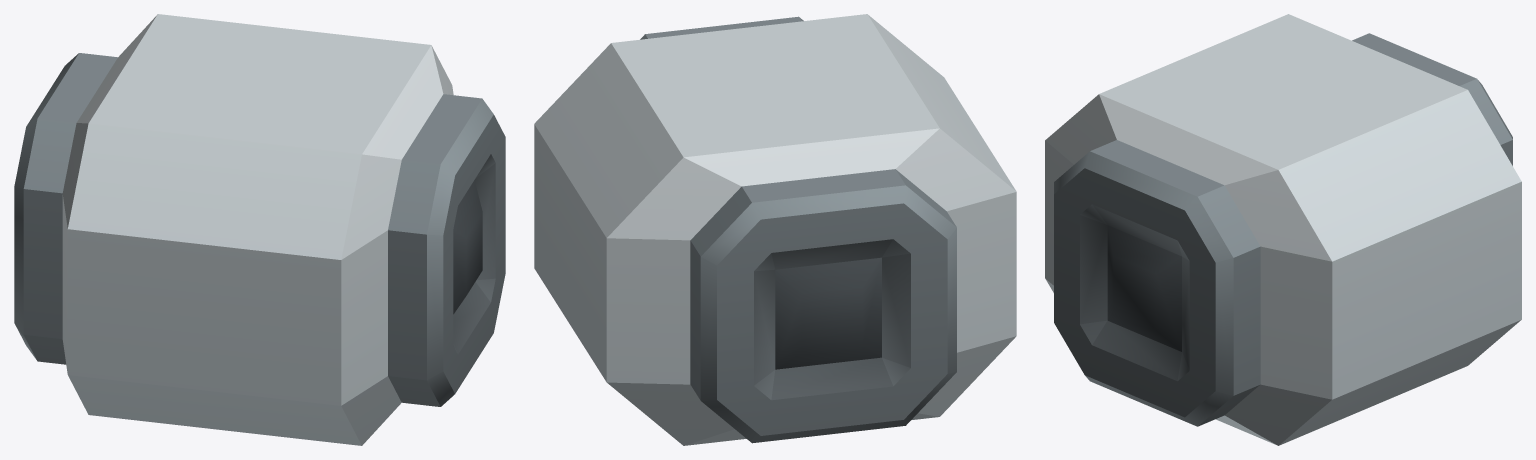
The model's file is kaykit_tunnel_diagonal_short_a_v01.glb.
3 renders of one model, left to right at view 1: azimuth 30°, elevation 25°; view 2: azimuth 150°, elevation 25°; view 3: azimuth 270°, elevation 25°, orthographic. The views are drawn at different scales.
Visible parts, largest first — view 1: tunnel_diagonal_short_A; view 2: tunnel_diagonal_short_A; view 3: tunnel_diagonal_short_A.
Part boxes in pixels (x1,y1,x2,y2): tunnel_diagonal_short_A: [14, 14, 505, 445]; tunnel_diagonal_short_A: [534, 14, 1016, 445]; tunnel_diagonal_short_A: [1045, 14, 1521, 445].
Size of the model in its own units: 0.939 by 0.6 by 0.939.
Materials: 1 (1 with a texture image).
